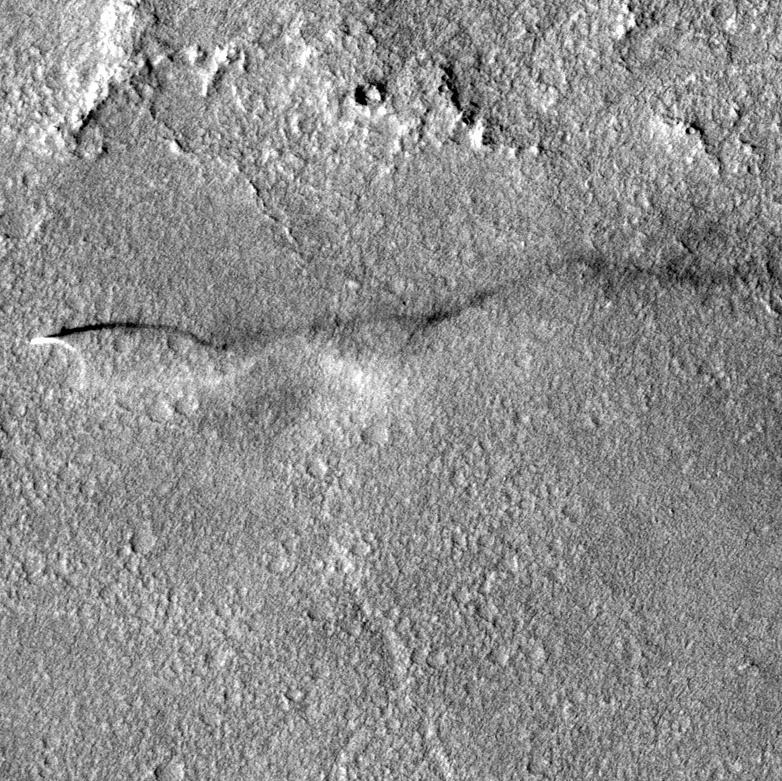dust_devil: (16, 299, 458, 398)
